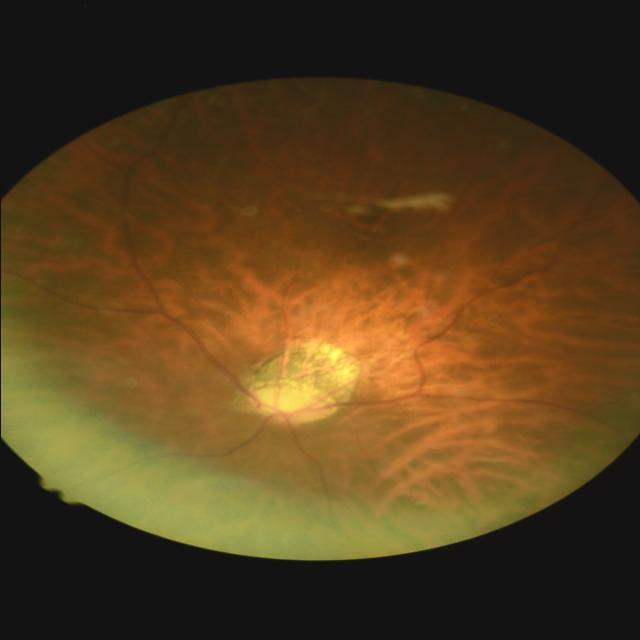cup: (256, 388, 324, 414)
disk: (247, 380, 336, 424)
